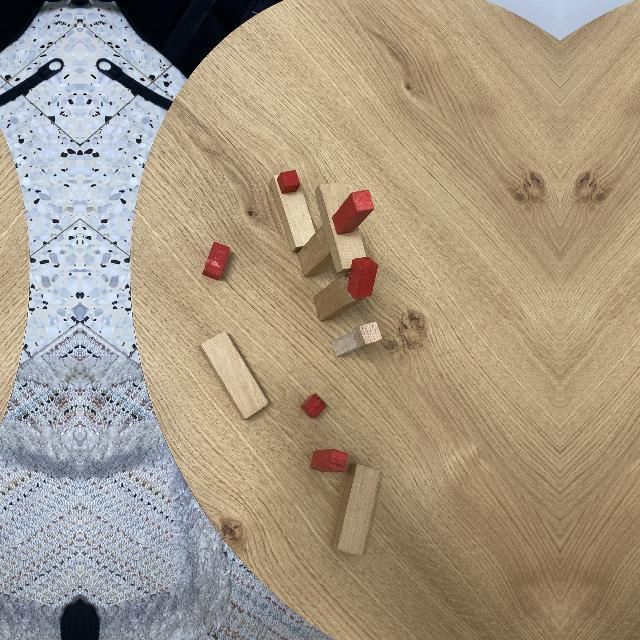block: (332, 331, 359, 357)
cube: (354, 321, 382, 345)
jenga: (200, 332, 269, 421), (314, 182, 366, 273), (332, 463, 380, 558), (270, 175, 315, 253), (314, 273, 358, 321), (298, 225, 333, 277)
red block: (333, 190, 375, 235), (347, 257, 378, 300), (202, 242, 230, 280), (310, 449, 348, 472)
red cube: (301, 394, 327, 419), (277, 170, 300, 194)
